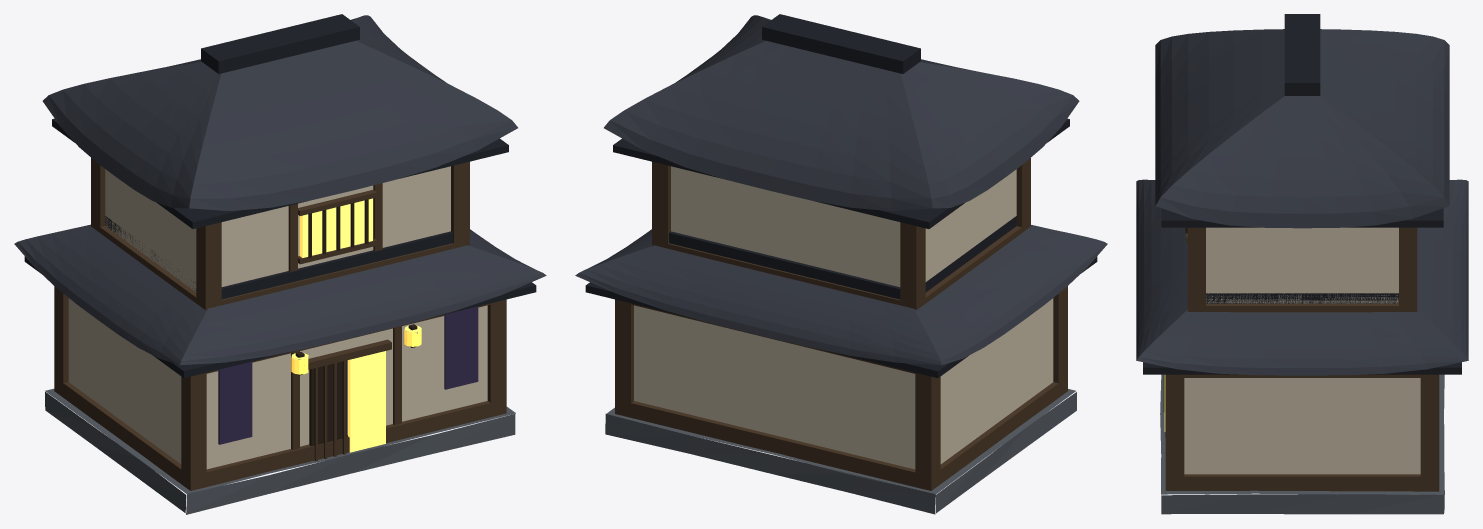
File: 2-07_ninjutsu_lab.glb
The picture shows the model from 3 angles, left to right: view 1: azimuth 30°, elevation 25°; view 2: azimuth 150°, elevation 25°; view 3: azimuth 270°, elevation 25°; orthographic projection.
Parts seen in each view (by area): view 1: 忍術研究所; view 2: 忍術研究所; view 3: 忍術研究所.
Boxes of the visible parts, x1=… form: 忍術研究所: x1=14, y1=14, x2=546, y2=514; 忍術研究所: x1=575, y1=14, x2=1107, y2=514; 忍術研究所: x1=1136, y1=14, x2=1468, y2=514.
Size of the model in its own units: 7.8 by 7.82 by 6.1.
